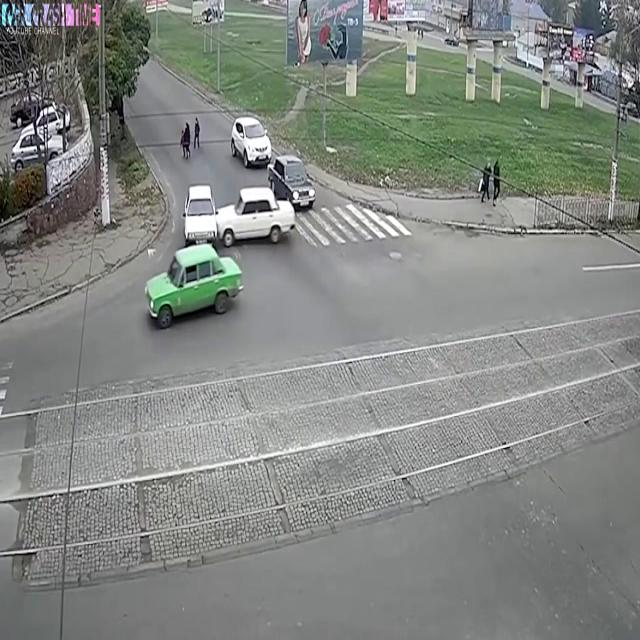accident: (180, 181, 297, 255)
non_accident: (228, 110, 319, 217)
